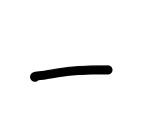minus: (30, 65, 113, 83)
